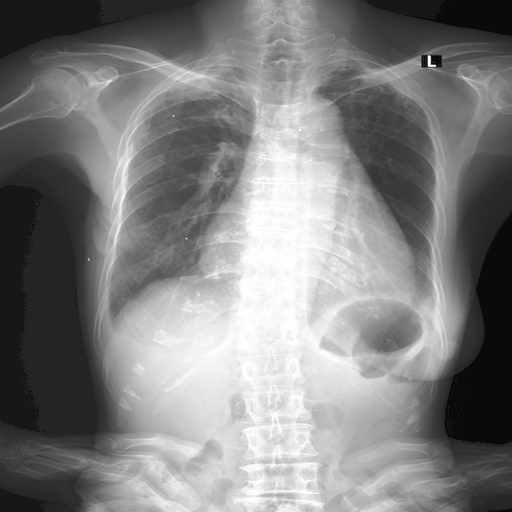Calcification: (316, 60, 384, 72), (100, 305, 122, 338), (410, 291, 441, 309)
Consolidation: (290, 95, 346, 157)
ILD: (323, 67, 426, 164), (173, 80, 247, 128)
Nodule/Mass: (203, 204, 413, 301)
Pleural effusion: (410, 291, 441, 309)
Pneumothorax: (333, 80, 402, 165), (173, 80, 247, 128)
